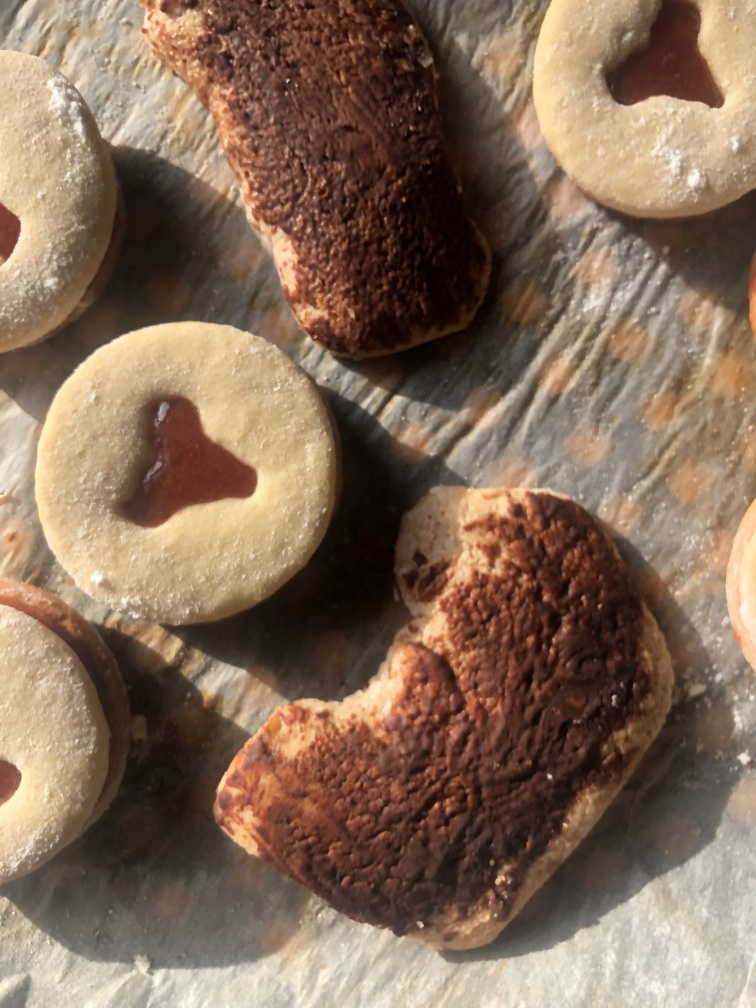christmas shortbread with jam: (30, 311, 334, 637), (527, 1, 756, 228), (1, 571, 145, 897), (1, 53, 123, 365)
weird #1: (208, 475, 680, 968), (139, 4, 499, 368)
